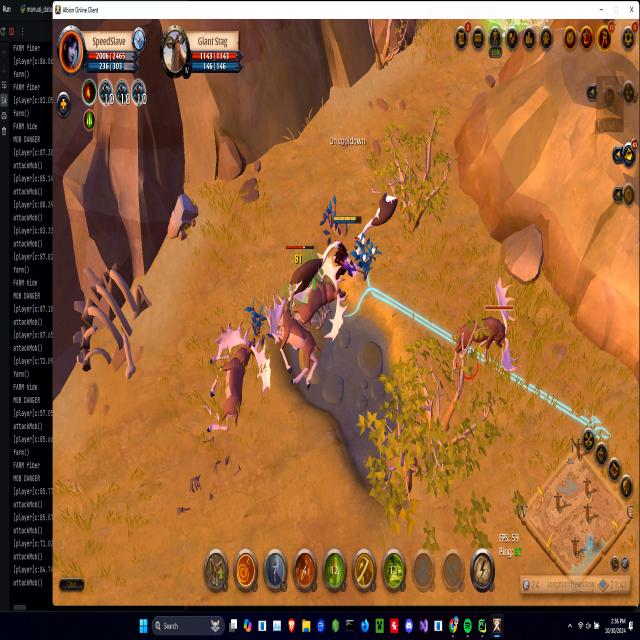hide: (351, 230, 378, 281)
mob: (204, 323, 270, 440), (262, 298, 321, 394), (352, 176, 401, 242), (290, 275, 346, 326)
ore: (452, 277, 521, 384), (285, 240, 341, 306)
red: (331, 212, 361, 283)
